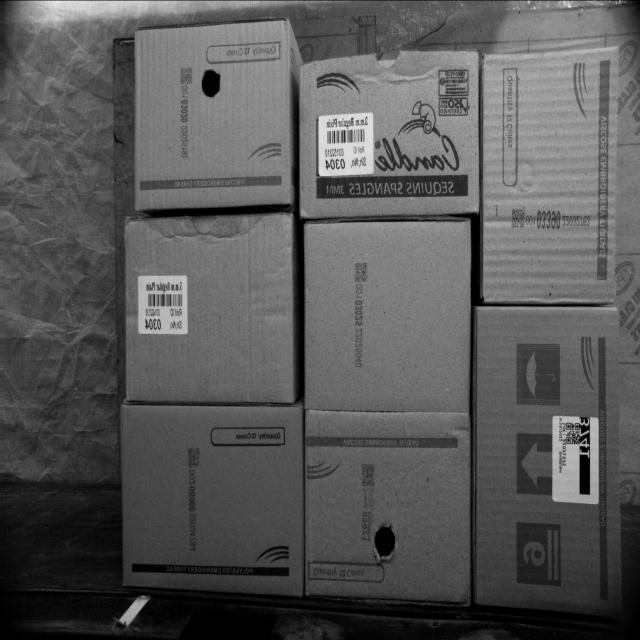cardboxes: (472, 308, 622, 608), (480, 50, 616, 303), (124, 404, 303, 592), (304, 411, 475, 606), (306, 214, 472, 406), (128, 208, 294, 400), (135, 15, 290, 211), (299, 51, 479, 218)
